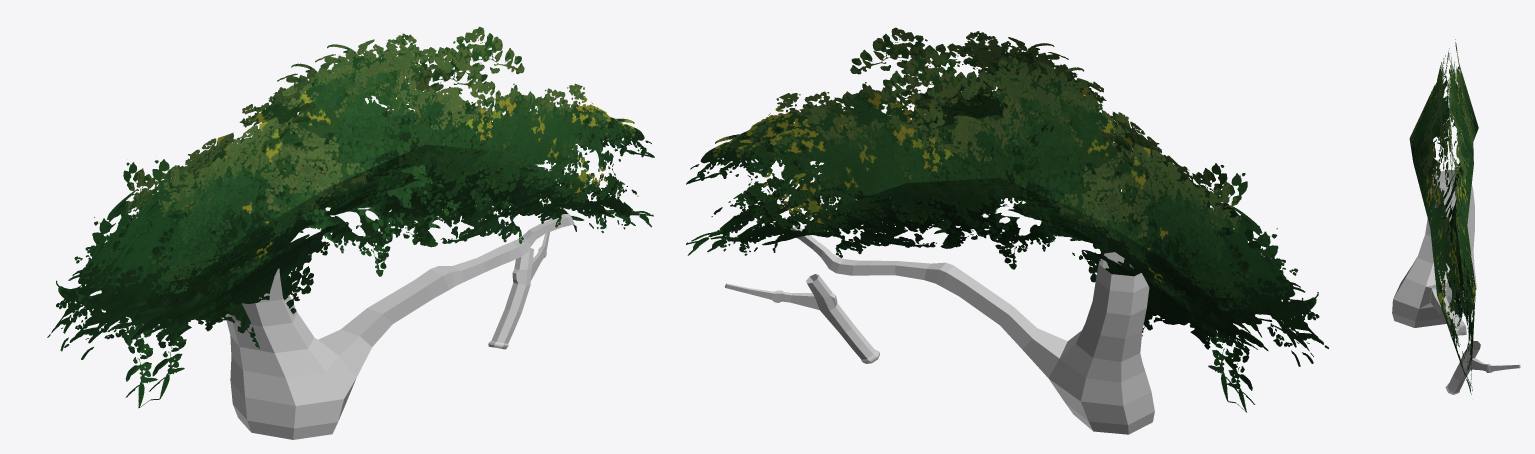
The model's file is shu4.fbx.
3 views of the same model, side by side, from view 1: azimuth 30°, elevation 25°; view 2: azimuth 150°, elevation 25°; view 3: azimuth 270°, elevation 25° (orthographic). The views are drawn at different scales.
Parts seen in each view (by area): view 1: shu4; view 2: shu4; view 3: shu4.
Boxes of the visible parts, x1,y1,x2,y2 form: shu4: (47,26,654,439); shu4: (686,27,1328,434); shu4: (1392,39,1520,394).
Bounding box in the file's own units: 729 × 397 × 160.
